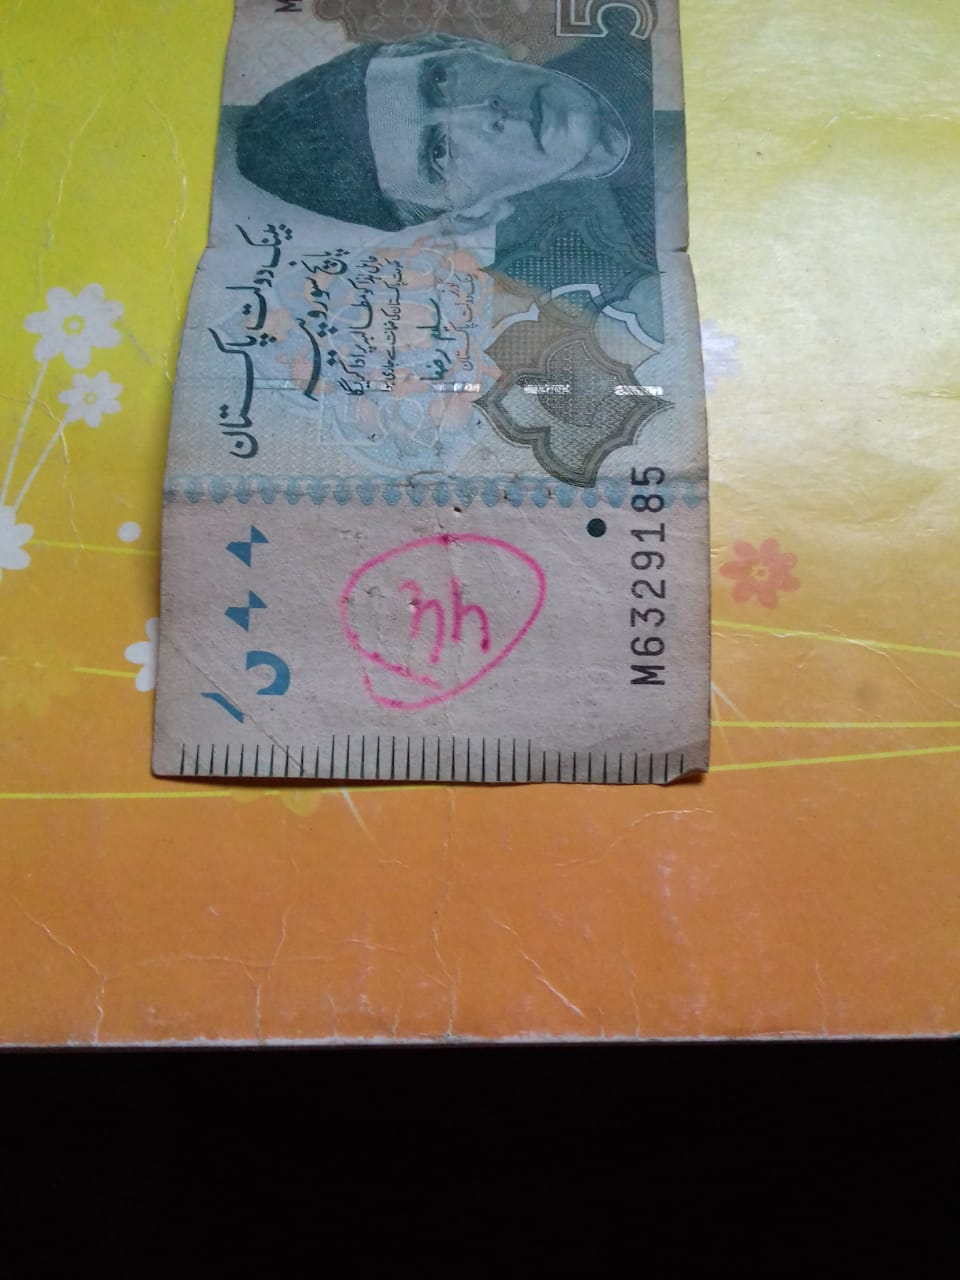500 rupee: (175, 11, 701, 776)
